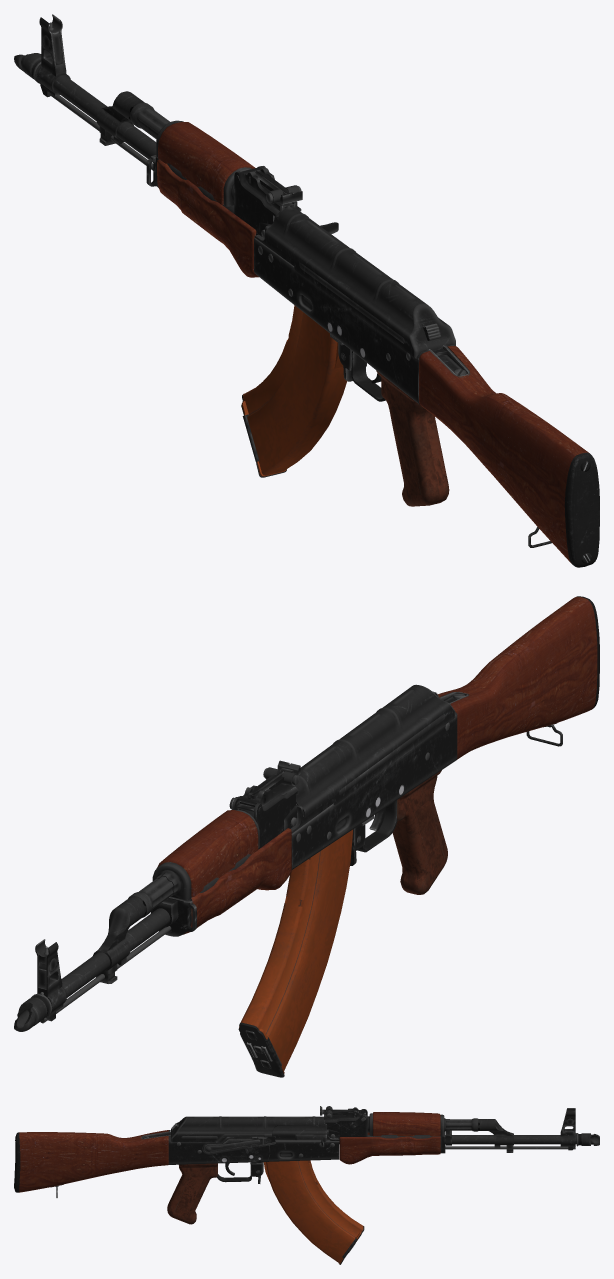
Rendered from akm.glb.
3 views of the same model, one above another, from view 1: azimuth 30°, elevation 25°; view 2: azimuth 150°, elevation 25°; view 3: azimuth 270°, elevation 25° (orthographic). The views are drawn at different scales.
Visible parts, largest first — view 1: AKM_wooden_furniture, AKM_body, AKM_bakelite_mag30rds; view 2: AKM_body, AKM_wooden_furniture, AKM_bakelite_mag30rds; view 3: AKM_body, AKM_wooden_furniture, AKM_bakelite_mag30rds.
Part boxes in pixels (x1,y1,x2,y2): AKM_wooden_furniture: [157, 122, 599, 567]; AKM_body: [14, 14, 470, 404]; AKM_bakelite_mag30rds: [241, 305, 347, 477]; AKM_body: [14, 684, 469, 1031]; AKM_wooden_furniture: [157, 596, 599, 934]; AKM_bakelite_mag30rds: [238, 829, 353, 1077]; AKM_body: [141, 1106, 599, 1183]; AKM_wooden_furniture: [14, 1112, 440, 1224]; AKM_bakelite_mag30rds: [263, 1160, 364, 1264].
Bounding box in the file's own units: 0.0682 × 0.2588 × 0.8953.
3 materials, 3 textured.
